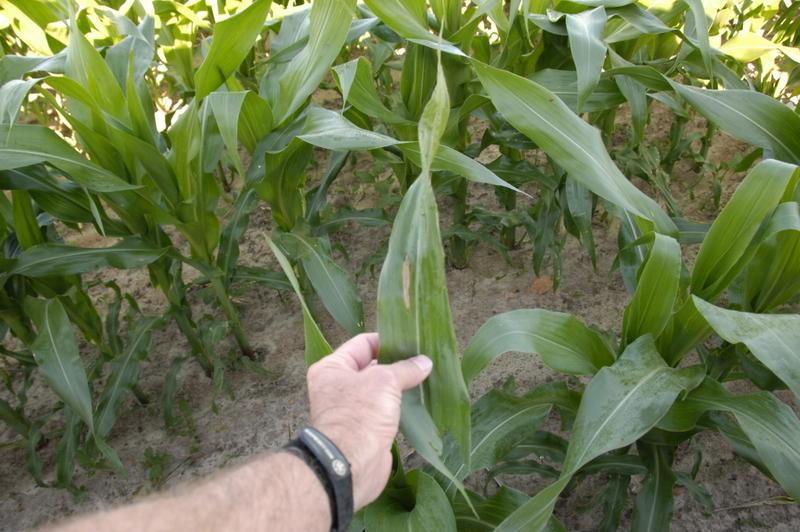Corn leaf blight: (379, 44, 459, 362)
